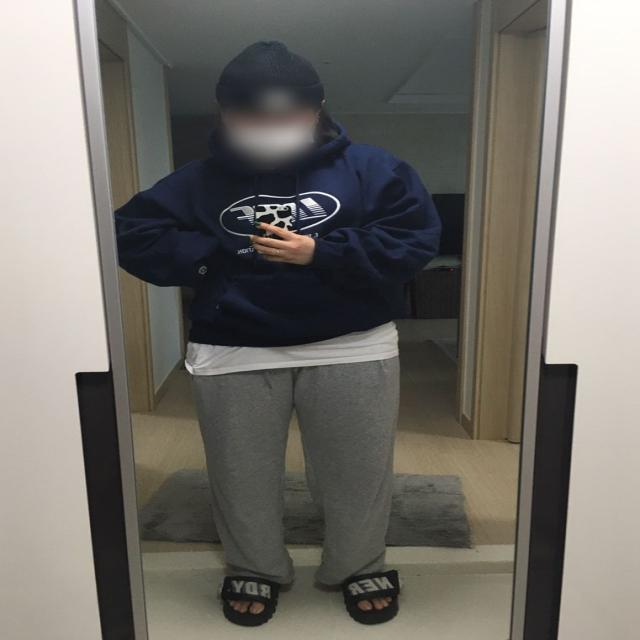hoodies: (116, 120, 440, 346)
trainingpants: (192, 355, 401, 587)
